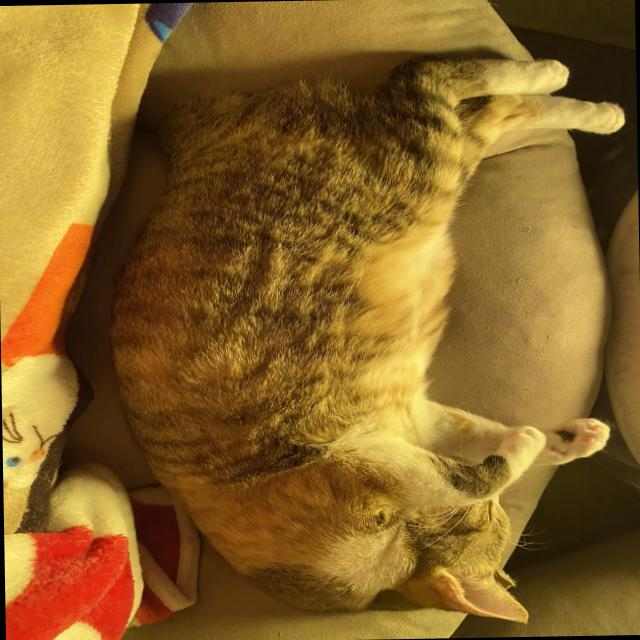cat2: (106, 49, 634, 632)
